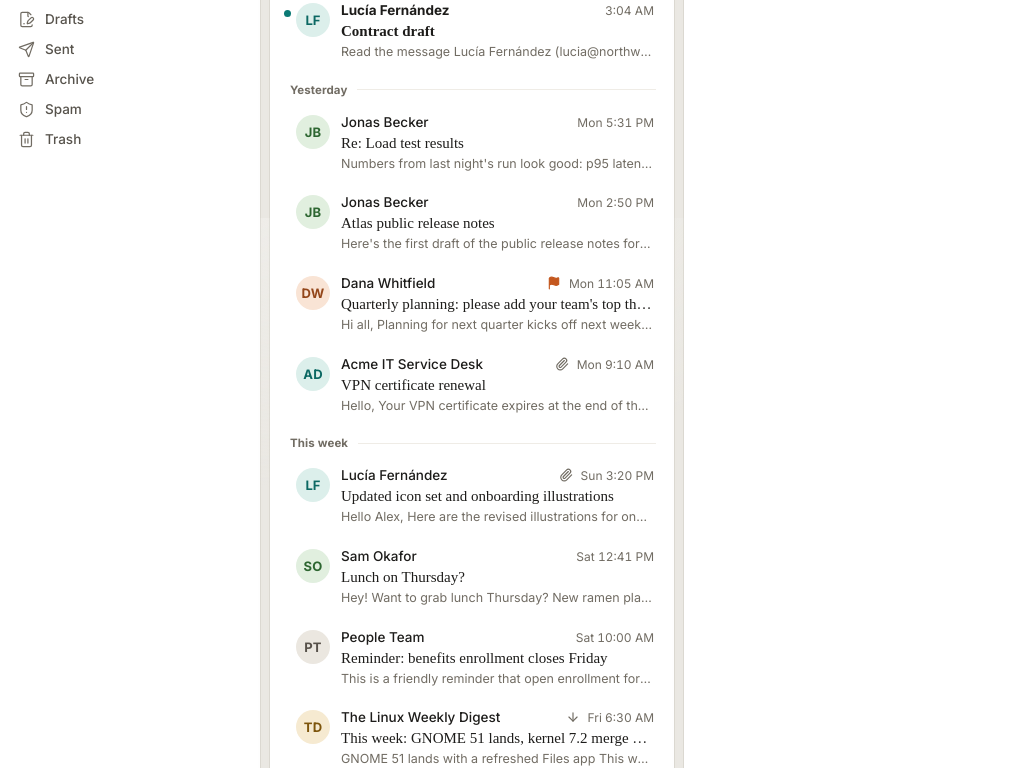
Protected messages › says a signed message's attachments are inside its signature file
(page scrolled)
Click the option "VPN certificate renewal": (472, 385) [278,345,666,424]
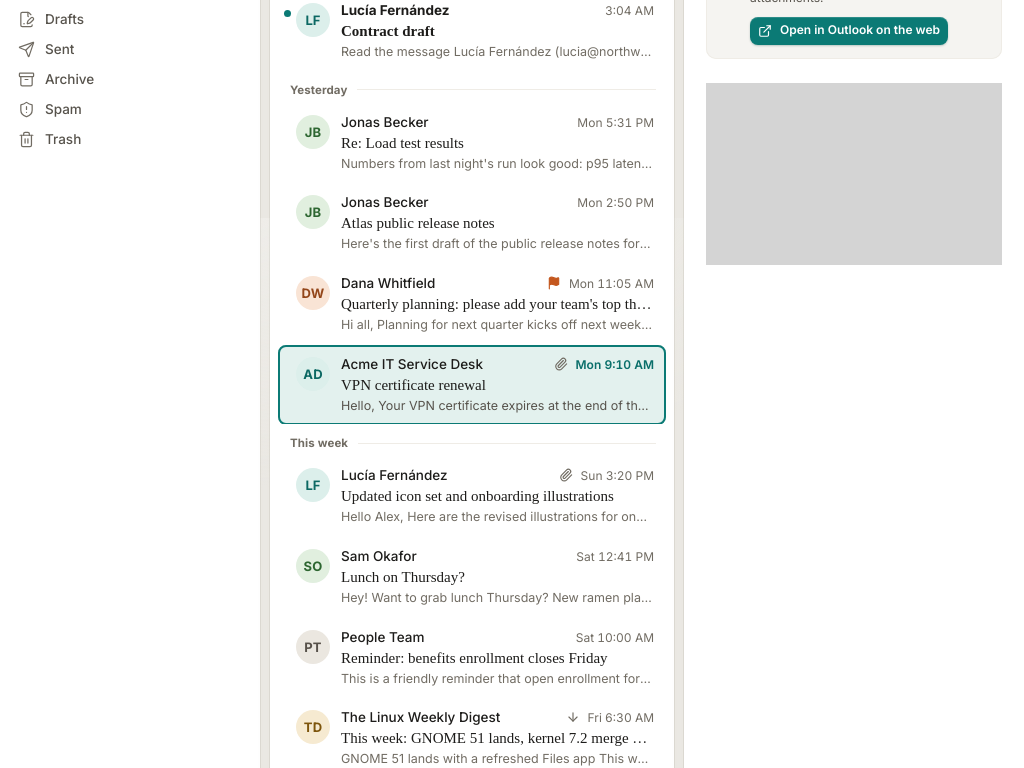
Check: the button "Open in Outlook on the web" is enabled, box [750,16,948,44]
